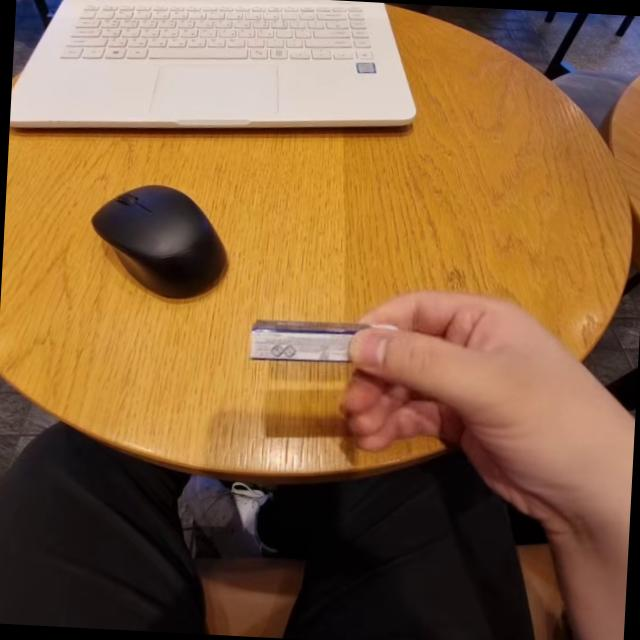eraser: (238, 310, 408, 370)
grab_eraser: (248, 286, 640, 517)
hand: (356, 292, 574, 496)
mouse: (74, 182, 250, 320)
